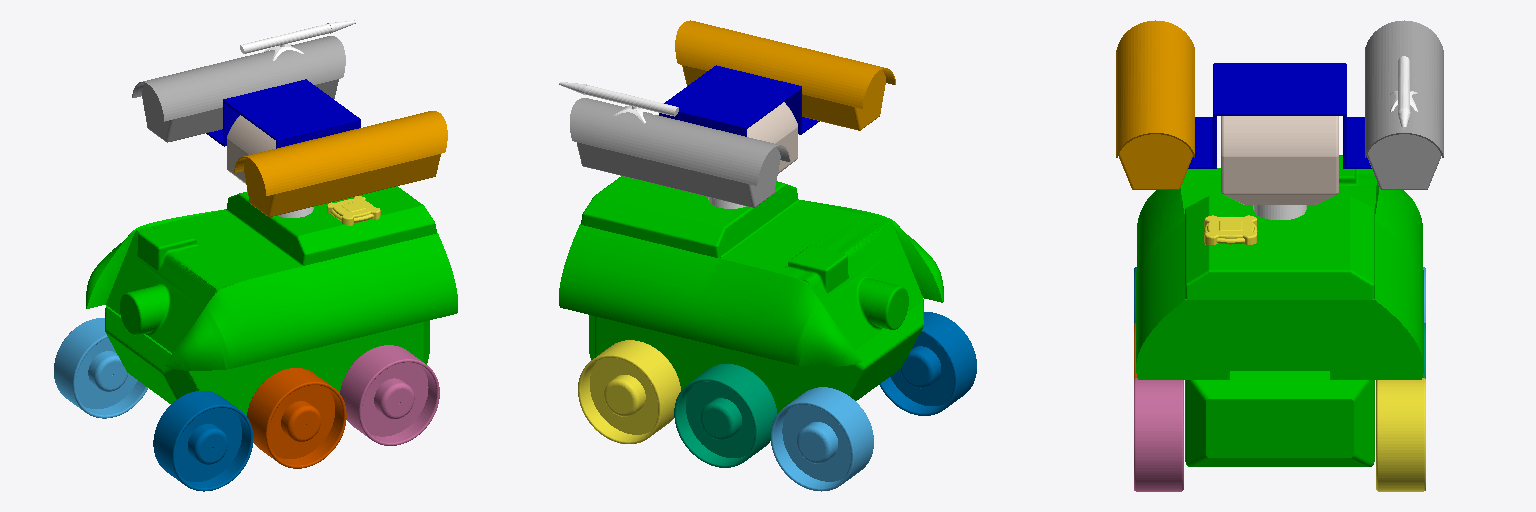
robot.urdf — MRC_Plastun:
<?xml version="1.0" ?>
<!-- =================================================================================== -->
<!-- |    This document was autogenerated by xacro from plastun.xacro                  | -->
<!-- |    EDITING THIS FILE BY HAND IS NOT RECOMMENDED                                 | -->
<!-- =================================================================================== -->
<robot name="MRC_Plastun" xmlns:xacro="http://www.ros.org/wiki/xacro">
  <material name="black">
    <color rgba="0.0 0.0 0.0 1.0"/>
  </material>
  <material name="blue">
    <color rgba="0.0 0.0 0.8 1.0"/>
  </material>
  <material name="green">
    <color rgba="0.0 0.8 0.0 1.0"/>
  </material>
  <material name="grey">
    <color rgba="0.2 0.2 0.2 1.0"/>
  </material>
  <material name="orange">
    <color rgba="1.0 0.423529411765 0.0392156862745 1.0"/>
  </material>
  <material name="brown">
    <color rgba="0.870588235294 0.811764705882 0.764705882353 1.0"/>
  </material>
  <material name="red">
    <color rgba="0.8 0.0 0.0 1.0"/>
  </material>
  <material name="white">
    <color rgba="1.0 1.0 1.0 1.0"/>
  </material>
  <link name="base_link"/>
  <joint name="base_link_chassis_fixed" type="fixed">
    <parent link="base_link"/>
    <child link="chassis"/>
  </joint>
  <link name="chassis">
    <inertial>
      <mass value="35"/>
      <origin rpy="0  0  0" xyz="0.289120720 -0.000018254  0.186368419"/>
      <inertia ixx="3.1081800" ixy="-0.25460189" ixz="2.0318174" iyy="6.3787776" iyz="0.16417863" izz="5.3316425"/>
    </inertial>
    <collision>
      <origin rpy="0  0  0" xyz="0 0  0.0435"/>
      <geometry>
        <mesh filename="package://plastun_description/meshes/STL_min/chassis.stl" scale="1.0 1.0 1.0"/>
      </geometry>
    </collision>
    <visual>
      <origin rpy="0  0  0" xyz="0 0  0.0435"/>
      <geometry>
        <mesh filename="package://plastun_description/meshes/STL_min/chassis.stl" scale="1 1 1"/>
      </geometry>
      <material name="green"/>
    </visual>
  </link>
  <!--laser sensors -->
  <link name="lazer_ukazka">
    <inertial>
      <mass value="0.001"/>
      <origin rpy="0  0  0" xyz="0.017977372  -0.000001823  0.034613516"/>
      <inertia ixx="0.0" ixy="0" ixz="0" iyy="0.0" iyz="0" izz="0.0"/>
    </inertial>
    <visual>
      <origin rpy="0  0  0" xyz="-0.171  -0  -0.045"/>
      <geometry>
        <mesh filename="package://plastun_description/meshes/STL_min/lazer_ukazka.stl" scale="1.0 1.0 1.0"/>
      </geometry>
      <material name="white"/>
    </visual>
  </link>
  <link name="hokuyo">
    <inertial>
      <mass value="0.3"/>
      <origin rpy="0  0  0" xyz="-0.000000763  -0.000000289  0.053961822"/>
      <inertia ixx="0.000000000" ixy="0" ixz="0" iyy="0.000000000" iyz="0" izz="0.000000000"/>
    </inertial>
    <visual>
      <origin rpy="0  0  0" xyz="-0  -0  -0.1"/>
      <geometry>
        <mesh filename="package://plastun_description/meshes/STL_min/hokuyo.stl" scale="1 1 1"/>
      </geometry>
    </visual>
  </link>
  <!-- Turrel -->
  <link name="turrel_vniz">
    <inertial>
      <mass value="1"/>
      <origin rpy="0  0  0" xyz="0  0  0.072913938"/>
      <inertia ixx="0.166667" ixy="0" ixz="0" iyy="0.166667" iyz="0" izz="0.166667"/>
    </inertial>
    <collision>
      <origin rpy="0  0  0" xyz="0  0  0"/>
      <geometry>
        <mesh filename="package://plastun_description/meshes/STL_min/turrel_vniz.stl" scale="1.0 1.0 1.0"/>
      </geometry>
    </collision>
    <visual>
      <origin rpy="0  0  0" xyz="0  0  0"/>
      <geometry>
        <mesh filename="package://plastun_description/meshes/STL_min/turrel_vniz.stl" scale="1.0 1.0 1.0"/>
      </geometry>
      <material name="white"/>
    </visual>
  </link>
  <link name="turrel_sered">
    <inertial>
      <mass value="1"/>
      <origin rpy="0  0  0" xyz="0  -0.000000943  0.089683258"/>
      <inertia ixx="0.166667" ixy="0" ixz="0" iyy="0.166667" iyz="0" izz="0.166667"/>
    </inertial>
    <collision>
      <origin rpy="0  0  0" xyz="0  0  0"/>
      <geometry>
        <mesh filename="package://plastun_description/meshes/STL_min/turrel_sered.stl" scale="1.0 1.0 1.0"/>
      </geometry>
    </collision>
    <visual>
      <origin rpy="0  0  0" xyz="0  0  0"/>
      <geometry>
        <mesh filename="package://plastun_description/meshes/STL_min/turrel_sered.stl" scale="1.0 1.0 1.0"/>
      </geometry>
      <material name="brown"/>
    </visual>
  </link>
  <link name="turrel_vverh">
    <inertial>
      <mass value="1"/>
      <origin rpy="0  0  0" xyz="0    0   0.051670046"/>
      <inertia ixx="0.166667" ixy="0" ixz="0" iyy="0.166667" iyz="0" izz="0.166667"/>
    </inertial>
    <collision>
      <origin rpy="0  0  0" xyz="0    0   0"/>
      <geometry>
        <mesh filename="package://plastun_description/meshes/STL_min/turrel_vverh.stl" scale="1.0 1.0 1.0"/>
      </geometry>
    </collision>
    <visual>
      <origin rpy="0  0  0" xyz="0    0   0"/>
      <geometry>
        <mesh filename="package://plastun_description/meshes/STL_min/turrel_vverh.stl" scale="1.0 1.0 1.0"/>
      </geometry>
      <material name="blue"/>
    </visual>
  </link>
  <link name="camera_1">
    <inertial>
      <mass value="0.001"/>
      <origin rpy="0  0  0" xyz="0.000021536  -0.000000325  0.060192452"/>
      <inertia ixx="0.00034961" ixy="0" ixz="0" iyy="0.00243426" iyz="0" izz="0.0027544"/>
    </inertial>
    <collision>
      <origin rpy="0  0  0" xyz="-0.2  -0  -0.0546695"/>
      <geometry>
        <mesh filename="package://plastun_description/meshes/STL_min/camera.stl" scale="1 1 1"/>
      </geometry>
    </collision>
    <visual>
      <origin rpy="0  0  0" xyz="-0.2  -0  -0.0546695"/>
      <geometry>
        <mesh filename="package://plastun_description/meshes/STL_min/camera.stl" scale="1 1 1"/>
      </geometry>
    </visual>
  </link>
  <joint name="turrel_vverh_camera_1_fixed" type="fixed">
    <parent link="turrel_vverh"/>
    <child link="camera_1"/>
    <origin rpy="0       0       0" xyz="0.2  0.21 0.0576695"/>
    <axis xyz="0  0  0"/>
    <limit effort="0" lower="0" upper="0" velocity="0"/>
  </joint>
  <link name="camera_2">
    <inertial>
      <mass value="0.001"/>
      <origin rpy="0  0  0" xyz="0.000021536  -0.000000325  0.060192452"/>
      <inertia ixx="0.00034961" ixy="0" ixz="0" iyy="0.00243426" iyz="0" izz="0.0027544"/>
    </inertial>
    <collision>
      <origin rpy="0  0  0" xyz="-0.2  -0  -0.0546695"/>
      <geometry>
        <mesh filename="package://plastun_description/meshes/STL_min/camera.stl" scale="1 1 1"/>
      </geometry>
    </collision>
    <visual>
      <origin rpy="0  0  0" xyz="-0.2  -0  -0.0546695"/>
      <geometry>
        <mesh filename="package://plastun_description/meshes/STL_min/camera.stl" scale="1 1 1"/>
      </geometry>
    </visual>
  </link>
  <joint name="turrel_vverh_camera_2_fixed" type="fixed">
    <parent link="turrel_vverh"/>
    <child link="camera_2"/>
    <origin rpy="0       0       0" xyz="0.2  -0.21 0.0576695"/>
    <axis xyz="0  0  0"/>
    <limit effort="0" lower="0" upper="0" velocity="0"/>
  </joint>
  <link name="wheel_left_1">
    <inertial>
      <mass value="0.03"/>
      <origin rpy="0  0  0" xyz="0  0.000007723  0"/>
      <inertia ixx="0.000000000" ixy="0" ixz="0" iyy="0.000000000" iyz="0" izz="0.000000000"/>
    </inertial>
    <collision>
      <origin rpy="1.5708  0      0" xyz="0  0  0"/>
      <geometry>
        <cylinder length="0.09" radius="0.096"/>
      </geometry>
    </collision>
    <visual>
      <origin rpy="0  0  0" xyz="0  0  0"/>
      <geometry>
        <mesh filename="package://plastun_description/meshes/STL_min/wheel.stl" scale="1.0 1.0 1.0"/>
      </geometry>
    </visual>
  </link>
  <joint name="wheel_lev_1" type="revolute">
    <parent link="chassis"/>
    <child link="wheel_left_1"/>
    <origin rpy="0       0      0" xyz="0.0666644 0.20499   0.096"/>
    <axis xyz="0 1  0"/>
    <limit effort="-1" lower="-1e+100" upper="1e+100" velocity="100"/>
  </joint>
  <link name="wheel_left_2">
    <inertial>
      <mass value="0.03"/>
      <origin rpy="0  0  0" xyz="0  0.000007723  0"/>
      <inertia ixx="0.000000000" ixy="0" ixz="0" iyy="0.000000000" iyz="0" izz="0.000000000"/>
    </inertial>
    <visual>
      <origin rpy="0  0  0" xyz="0  0  0"/>
      <geometry>
        <mesh filename="package://plastun_description/meshes/STL_min/wheel.stl" scale="1.0 1.0 1.0"/>
      </geometry>
    </visual>
  </link>
  <joint name="wheel_lev_2" type="revolute">
    <parent link="chassis"/>
    <child link="wheel_left_2"/>
    <origin rpy="0       0      0" xyz="0.2881144 0.20499   0.096"/>
    <axis xyz="0 1  0"/>
    <limit effort="-1" lower="-1e+100" upper="1e+100" velocity="100"/>
  </joint>
  <link name="wheel_left_3">
    <inertial>
      <mass value="0.03"/>
      <origin rpy="0  0  0" xyz="0  0.000007723  0"/>
      <inertia ixx="0.000000000" ixy="0" ixz="0" iyy="0.000000000" iyz="0" izz="0.000000000"/>
    </inertial>
    <collision>
      <origin rpy="1.5708  0      0" xyz="0  0  0"/>
      <geometry>
        <cylinder length="0.09" radius="0.096"/>
      </geometry>
    </collision>
    <visual>
      <origin rpy="0  0  0" xyz="0  0  0"/>
      <geometry>
        <mesh filename="package://plastun_description/meshes/STL_min/wheel.stl" scale="1.0 1.0 1.0"/>
      </geometry>
    </visual>
  </link>
  <joint name="wheel_lev_3" type="revolute">
    <parent link="chassis"/>
    <child link="wheel_left_3"/>
    <origin rpy="0       0      0" xyz="0.5095644 0.20499   0.096"/>
    <axis xyz="0 1  0"/>
    <limit effort="-1" lower="-1e+100" upper="1e+100" velocity="100"/>
  </joint>
  <link name="wheel_right_1">
    <inertial>
      <mass value="0.03"/>
      <origin rpy="0  0  0" xyz="0  0.000007723  0"/>
      <inertia ixx="0.000000000" ixy="0" ixz="0" iyy="0.000000000" iyz="0" izz="0.000000000"/>
    </inertial>
    <collision>
      <origin rpy="1.5708  0      0" xyz="0  0  0"/>
      <geometry>
        <cylinder length="0.09" radius="0.096"/>
      </geometry>
    </collision>
    <visual>
      <origin rpy="0  0  0" xyz="0  0  0"/>
      <geometry>
        <mesh filename="package://plastun_description/meshes/STL_min/wheel.stl" scale="1.0 1.0 1.0"/>
      </geometry>
    </visual>
  </link>
  <joint name="wheel_prav_1" type="revolute">
    <parent link="chassis"/>
    <child link="wheel_right_1"/>
    <origin rpy="0       0      0" xyz="0.0666644 -0.20499   0.096"/>
    <axis xyz="0 1  0"/>
    <limit effort="-1" lower="-1e+100" upper="1e+100" velocity="100"/>
  </joint>
  <link name="wheel_right_2">
    <inertial>
      <mass value="0.03"/>
      <origin rpy="0  0  0" xyz="0  0.000007723  0"/>
      <inertia ixx="0.000000000" ixy="0" ixz="0" iyy="0.000000000" iyz="0" izz="0.000000000"/>
    </inertial>
    <visual>
      <origin rpy="0  0  0" xyz="0  0  0"/>
      <geometry>
        <mesh filename="package://plastun_description/meshes/STL_min/wheel.stl" scale="1.0 1.0 1.0"/>
      </geometry>
    </visual>
  </link>
  <joint name="wheel_prav_2" type="revolute">
    <parent link="chassis"/>
    <child link="wheel_right_2"/>
    <origin rpy="0       0      0" xyz="0.2881144 -0.20499   0.096"/>
    <axis xyz="0 1  0"/>
    <limit effort="-1" lower="-1e+100" upper="1e+100" velocity="100"/>
  </joint>
  <link name="wheel_right_3">
    <inertial>
      <mass value="0.03"/>
      <origin rpy="0  0  0" xyz="0  0.000007723  0"/>
      <inertia ixx="0.000000000" ixy="0" ixz="0" iyy="0.000000000" iyz="0" izz="0.000000000"/>
    </inertial>
    <collision>
      <origin rpy="1.5708  0      0" xyz="0  0  0"/>
      <geometry>
        <cylinder length="0.09" radius="0.096"/>
      </geometry>
    </collision>
    <visual>
      <origin rpy="0  0  0" xyz="0  0  0"/>
      <geometry>
        <mesh filename="package://plastun_description/meshes/STL_min/wheel.stl" scale="1.0 1.0 1.0"/>
      </geometry>
    </visual>
  </link>
  <joint name="wheel_prav_3" type="revolute">
    <parent link="chassis"/>
    <child link="wheel_right_3"/>
    <origin rpy="0       0      0" xyz="0.5095644 -0.20499   0.096"/>
    <axis xyz="0 1  0"/>
    <limit effort="-1" lower="-1e+100" upper="1e+100" velocity="100"/>
  </joint>
  <!--fix'es joints -->
  <joint name="camera_1_lazer_ukazka_fixed" type="fixed">
    <parent link="camera_1"/>
    <child link="lazer_ukazka"/>
    <origin rpy="0       0      0" xyz="0.071  0  0.095"/>
    <axis xyz="0  0  0"/>
    <limit effort="0" lower="0" upper="0" velocity="0"/>
  </joint>
  <joint name="chassis_hokuyo_fixed" type="fixed">
    <parent link="chassis"/>
    <child link="hokuyo"/>
    <origin rpy="0       0       0" xyz="0.4941421  -0.083  0.4685"/>
    <axis xyz="0  0  0"/>
    <limit effort="0" lower="0" upper="0" velocity="0"/>
  </joint>
  <joint name="chassis_turrel_vniz_fixed" type="fixed">
    <parent link="chassis"/>
    <child link="turrel_vniz"/>
    <origin rpy="0 0  0" xyz="0.395 0  0.3685"/>
    <axis xyz="0  0  0"/>
    <limit effort="0" lower="0" upper="0" velocity="0"/>
  </joint>
  <!-- revolute joints -->
  <joint name="turrel_vniz_turrel_sered_revolute" type="revolute">
    <parent link="turrel_vniz"/>
    <child link="turrel_sered"/>
    <origin rpy="0  0   0" xyz="0 0  0.1296088"/>
    <axis xyz="0  0  1"/>
    <limit effort="1" lower="-3.139" upper="3.139" velocity="100"/>
  </joint>
  <joint name="turrel_sered_turrel_vverh_up_to_down" type="revolute">
    <parent link="turrel_sered"/>
    <child link="turrel_vverh"/>
    <origin rpy="0   0   0" xyz="0  0 0.0890008"/>
    <axis xyz="0  -1  0"/>
    <limit effort="1" lower="-1" upper="1" velocity="100"/>
  </joint>
  <!--transmitions-->
  <transmission name="turrel_revol">
    <type>transmission_interface/SimpleTransmission</type>
    <joint name="turrel_vniz_turrel_sered_revolute">
      <hardwareInterface>EffortJointInterface</hardwareInterface>
    </joint>
    <actuator name="tl_rev">
      <hardwareInterface>EffortJointInterface</hardwareInterface>
      <mechanicalReduction>1</mechanicalReduction>
    </actuator>
  </transmission>
  <transmission name="turrel_up_to_down">
    <type>transmission_interface/SimpleTransmission</type>
    <joint name="turrel_sered_turrel_vverh_up_to_down">
      <hardwareInterface>EffortJointInterface</hardwareInterface>
    </joint>
    <actuator name="tl_ud">
      <hardwareInterface>EffortJointInterface</hardwareInterface>
      <mechanicalReduction>1</mechanicalReduction>
    </actuator>
  </transmission>
  <transmission name="wheel_l_1">
    <type>transmission_interface/SimpleTransmission</type>
    <joint name="wheel_lev_1">
      <hardwareInterface>EffortJointInterface</hardwareInterface>
    </joint>
    <actuator name="wh_l_1">
      <hardwareInterface>EffortJointInterface</hardwareInterface>
      <mechanicalReduction>1</mechanicalReduction>
    </actuator>
  </transmission>
  <transmission name="wheel_l_2">
    <type>transmission_interface/SimpleTransmission</type>
    <joint name="wheel_lev_2">
      <hardwareInterface>EffortJointInterface</hardwareInterface>
    </joint>
    <actuator name="wh_l_2">
      <hardwareInterface>EffortJointInterface</hardwareInterface>
      <mechanicalReduction>1</mechanicalReduction>
    </actuator>
  </transmission>
  <transmission name="wheel_l_3">
    <type>transmission_interface/SimpleTransmission</type>
    <joint name="wheel_lev_3">
      <hardwareInterface>EffortJointInterface</hardwareInterface>
    </joint>
    <actuator name="wh_l_3">
      <hardwareInterface>EffortJointInterface</hardwareInterface>
      <mechanicalReduction>1</mechanicalReduction>
    </actuator>
  </transmission>
  <transmission name="wheel_r_1">
    <type>transmission_interface/SimpleTransmission</type>
    <joint name="wheel_prav_1">
      <hardwareInterface>EffortJointInterface</hardwareInterface>
    </joint>
    <actuator name="wh_r_1">
      <hardwareInterface>EffortJointInterface</hardwareInterface>
      <mechanicalReduction>1</mechanicalReduction>
    </actuator>
  </transmission>
  <transmission name="wheel_r_2">
    <type>transmission_interface/SimpleTransmission</type>
    <joint name="wheel_prav_2">
      <hardwareInterface>EffortJointInterface</hardwareInterface>
    </joint>
    <actuator name="wh_r_2">
      <hardwareInterface>EffortJointInterface</hardwareInterface>
      <mechanicalReduction>1</mechanicalReduction>
    </actuator>
  </transmission>
  <transmission name="wheel_r_3">
    <type>transmission_interface/SimpleTransmission</type>
    <joint name="wheel_prav_3">
      <hardwareInterface>EffortJointInterface</hardwareInterface>
    </joint>
    <actuator name="wh_r_3">
      <hardwareInterface>EffortJointInterface</hardwareInterface>
      <mechanicalReduction>1</mechanicalReduction>
    </actuator>
  </transmission>
</robot>

--- Render facts (derived) ---
3 views of the same robot in one strip: view 1: azimuth 30°, elevation 25°; view 2: azimuth 150°, elevation 25°; view 3: azimuth 270°, elevation 25° (orthographic).
Model MRC_Plastun with 15 links and 14 joints (8 revolute, 6 fixed), rooted at base_link, posed every joint at zero.
Links seen in each view (by area): view 1: chassis, camera_2, camera_1, wheel_right_1, wheel_right_2, wheel_right_3, turrel_vverh, wheel_left_1, turrel_sered, lazer_ukazka, hokuyo; view 2: chassis, camera_1, camera_2, wheel_left_1, wheel_left_2, wheel_left_3, wheel_right_1, turrel_vverh, turrel_sered, lazer_ukazka; view 3: chassis, camera_2, camera_1, turrel_sered, turrel_vverh, wheel_left_3, wheel_right_3, hokuyo, lazer_ukazka, turrel_vniz.
Link boxes in pixels (x1,y1,x2,y2): chassis: [86, 186, 457, 415]; camera_2: [234, 111, 447, 216]; camera_1: [132, 36, 345, 142]; wheel_right_1: [153, 391, 252, 491]; wheel_right_2: [247, 368, 346, 468]; wheel_right_3: [340, 345, 439, 445]; turrel_vverh: [206, 79, 360, 148]; wheel_left_1: [54, 318, 147, 418]; turrel_sered: [227, 115, 275, 183]; lazer_ukazka: [240, 20, 355, 60]; hokuyo: [327, 196, 380, 225]; chassis: [559, 176, 943, 413]; camera_1: [570, 98, 790, 207]; camera_2: [675, 20, 895, 130]; wheel_left_1: [771, 387, 873, 491]; wheel_left_2: [674, 364, 776, 467]; wheel_left_3: [578, 340, 680, 443]; wheel_right_1: [879, 312, 976, 415]; turrel_vverh: [659, 65, 819, 136]; turrel_sered: [747, 102, 797, 173]; lazer_ukazka: [559, 82, 678, 123]; chassis: [1136, 155, 1423, 466]; camera_2: [1116, 20, 1194, 189]; camera_1: [1365, 20, 1443, 189]; turrel_sered: [1221, 116, 1338, 204]; turrel_vverh: [1188, 63, 1371, 168]; wheel_left_3: [1376, 378, 1425, 491]; wheel_right_3: [1134, 378, 1183, 491]; hokuyo: [1204, 215, 1257, 244]; lazer_ukazka: [1390, 56, 1417, 130]; turrel_vniz: [1253, 205, 1306, 219].
Bounding box of the posed robot: 0.6953 × 0.5539 × 0.7508 m (x, y, z).
14 mesh visuals loaded from 8 distinct referenced files (8 binary STL).
